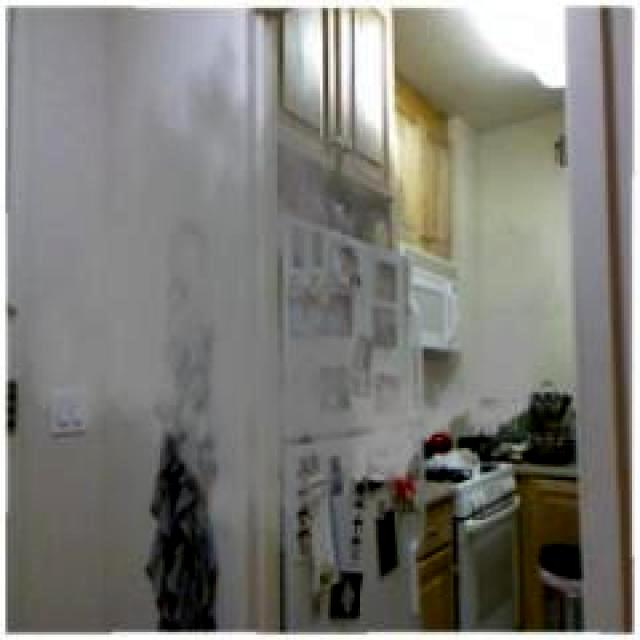Smoke: (24, 2, 563, 554)
